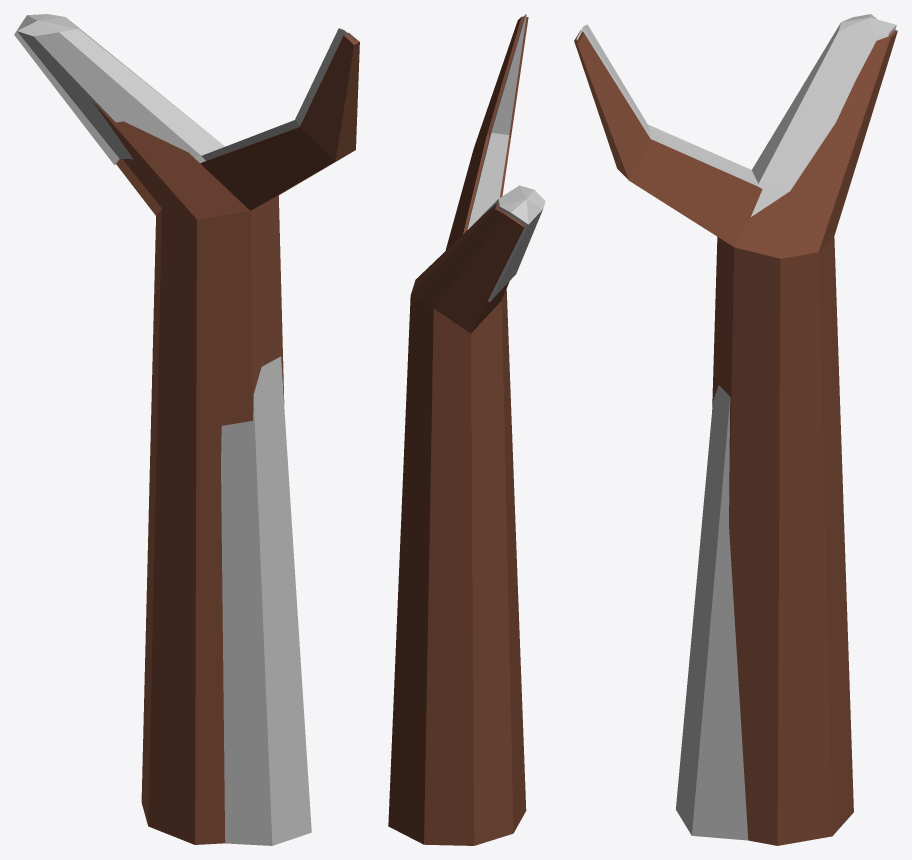
Rendered from Tree_04_winter_vc.fbx.
3 views of the same model, side by side, from view 1: azimuth 30°, elevation 25°; view 2: azimuth 150°, elevation 25°; view 3: azimuth 270°, elevation 25° (orthographic). The views are drawn at different scales.
Visible parts, largest first — view 1: Tree_04_winter_vc; view 2: Tree_04_winter_vc; view 3: Tree_04_winter_vc.
Part boxes in pixels (x1,y1,x2,y2): Tree_04_winter_vc: [14, 14, 359, 845]; Tree_04_winter_vc: [388, 14, 545, 845]; Tree_04_winter_vc: [574, 14, 897, 845].
Size of the model in its own units: 1.08 by 3.99 by 1.46.
